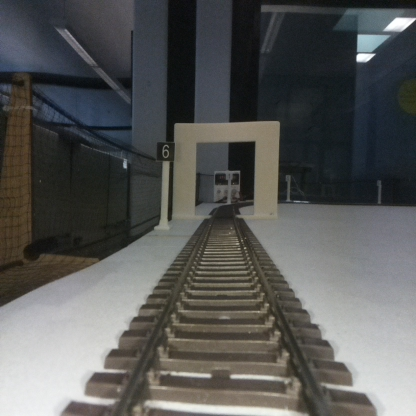black-info-6: (155, 140, 175, 227)
